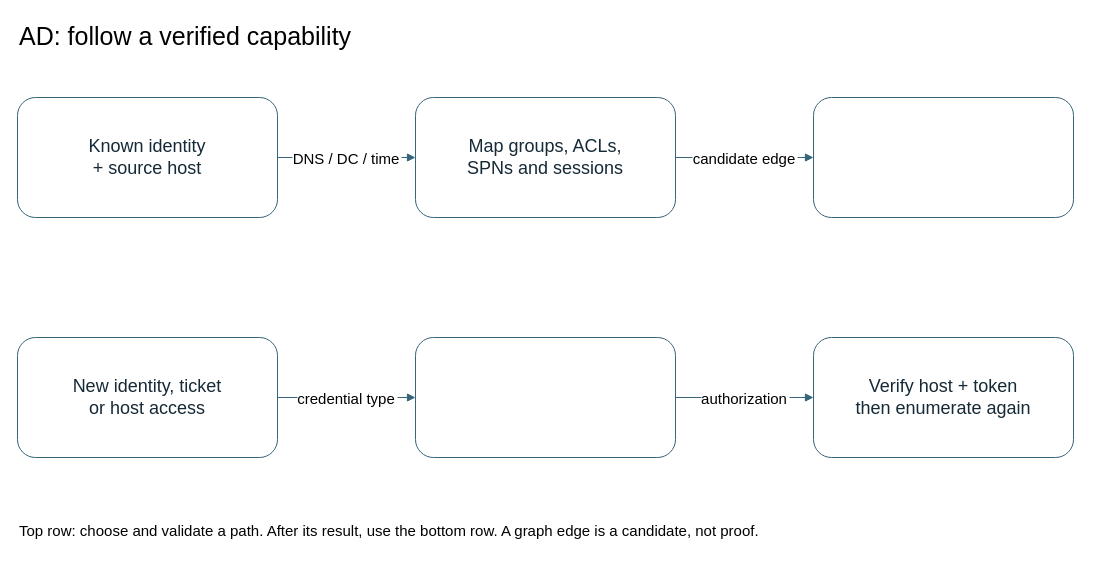
This 1095x564 diagram has some shape labels left out. Each missing label, with the centre of its shape:
"Choose a compatible reachable service" goes at pixel 545 397.
"Validate one right on the exact object" goes at pixel 943 157.
